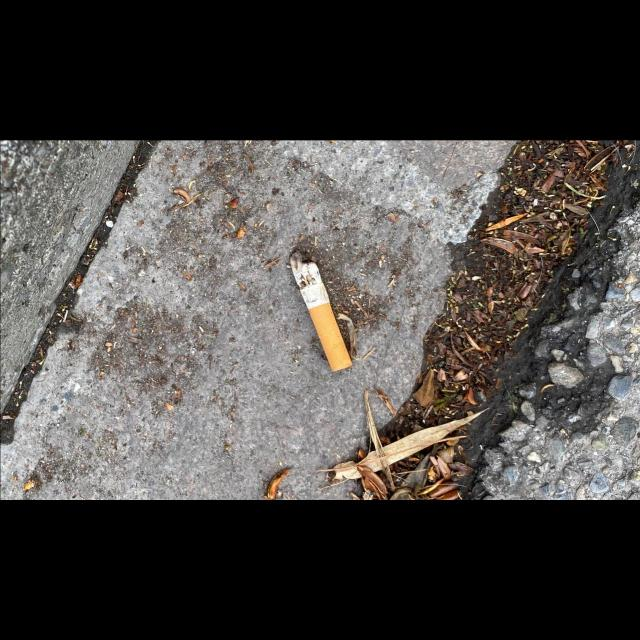cigarette: (289, 246, 353, 372)
